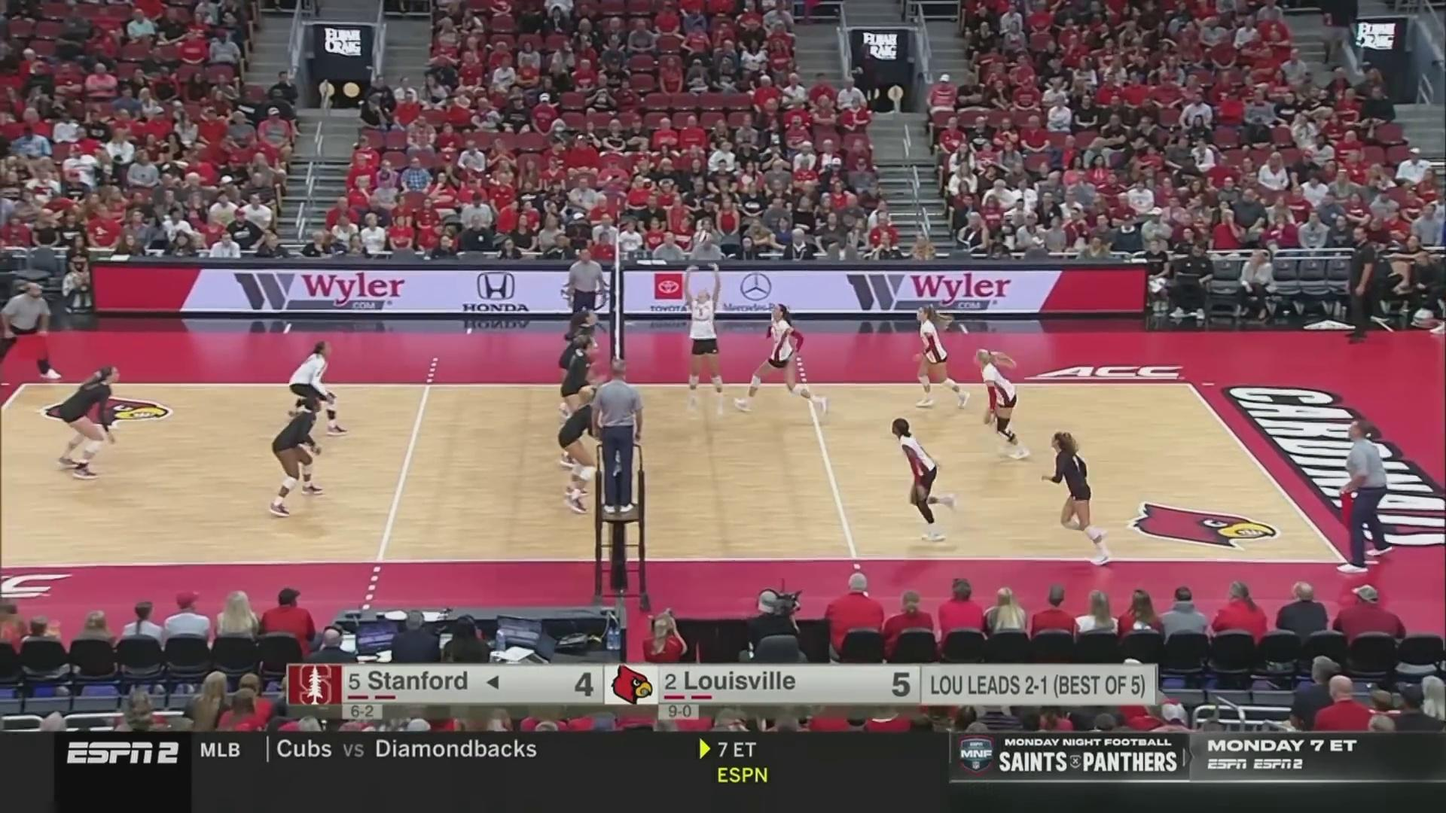player: (741, 304, 835, 412), (1045, 431, 1114, 567), (891, 417, 959, 545), (56, 367, 122, 481), (267, 397, 328, 516), (972, 350, 1031, 463), (557, 385, 607, 515), (278, 343, 345, 436), (684, 266, 723, 416), (913, 306, 968, 412), (560, 311, 602, 432), (562, 338, 599, 466)
refree: (1336, 422, 1401, 571), (593, 357, 644, 517), (0, 282, 59, 380), (565, 248, 606, 355)
